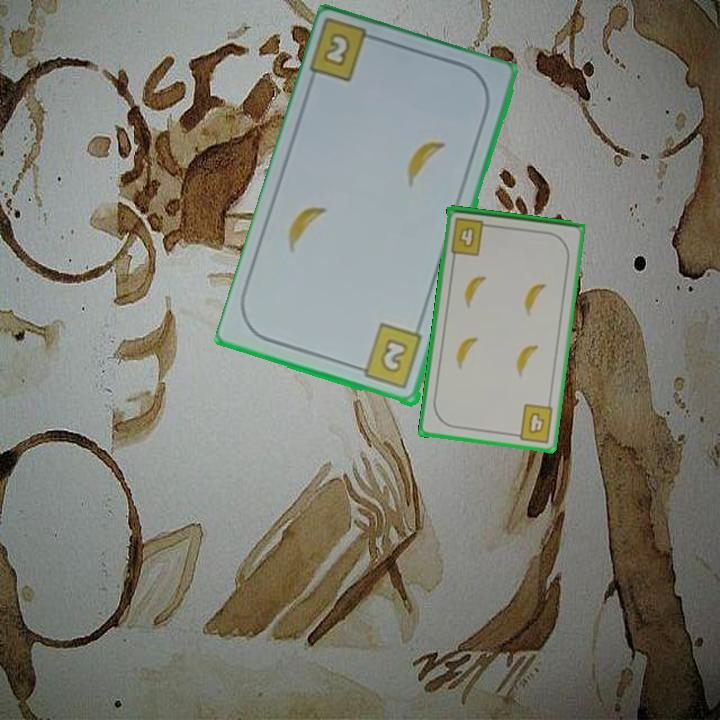2b: (308, 18, 386, 86), (352, 321, 426, 392)
4b: (509, 400, 556, 446), (447, 214, 494, 258)
